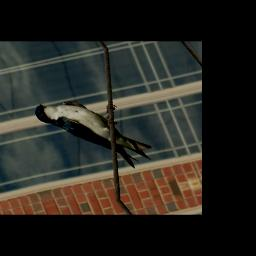Swallow: (31, 85, 160, 185)
